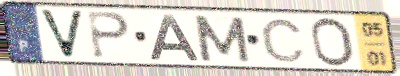A: (147, 13, 202, 62)
C: (259, 17, 309, 64)
M: (190, 13, 253, 64)
O: (308, 16, 358, 68)
P: (85, 9, 132, 61)
V: (36, 7, 87, 61)
